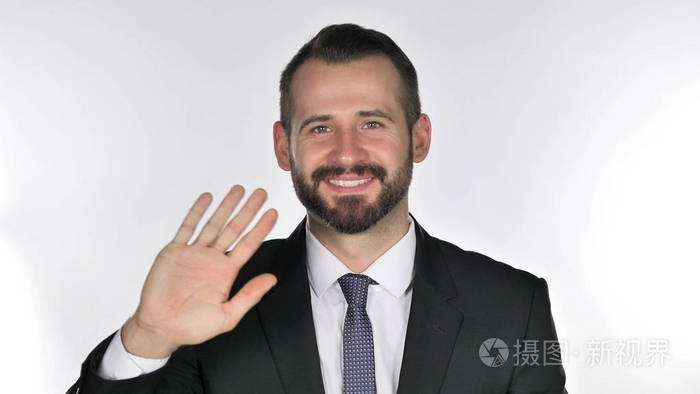no-phone: (128, 183, 279, 347)
